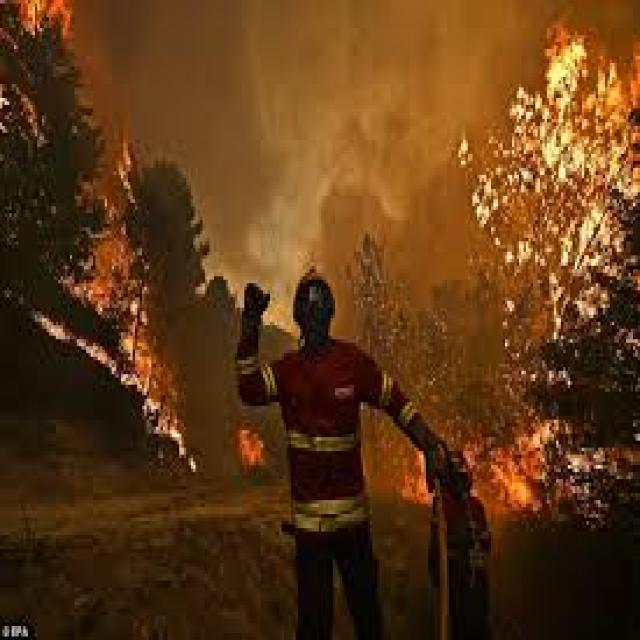Fire: (27, 140, 199, 478), (458, 17, 640, 326), (467, 424, 595, 514), (0, 0, 67, 49), (233, 423, 271, 477), (397, 448, 432, 503)
Smoke: (75, 0, 556, 343)
